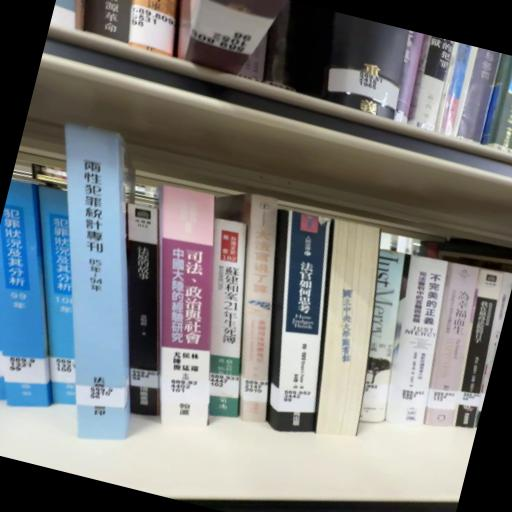backward: (316, 221, 381, 437)
book: (1, 122, 200, 454), (112, 187, 266, 439), (70, 176, 209, 422), (233, 214, 368, 445), (189, 199, 316, 432), (286, 226, 406, 449), (168, 217, 282, 432), (327, 238, 418, 440)
